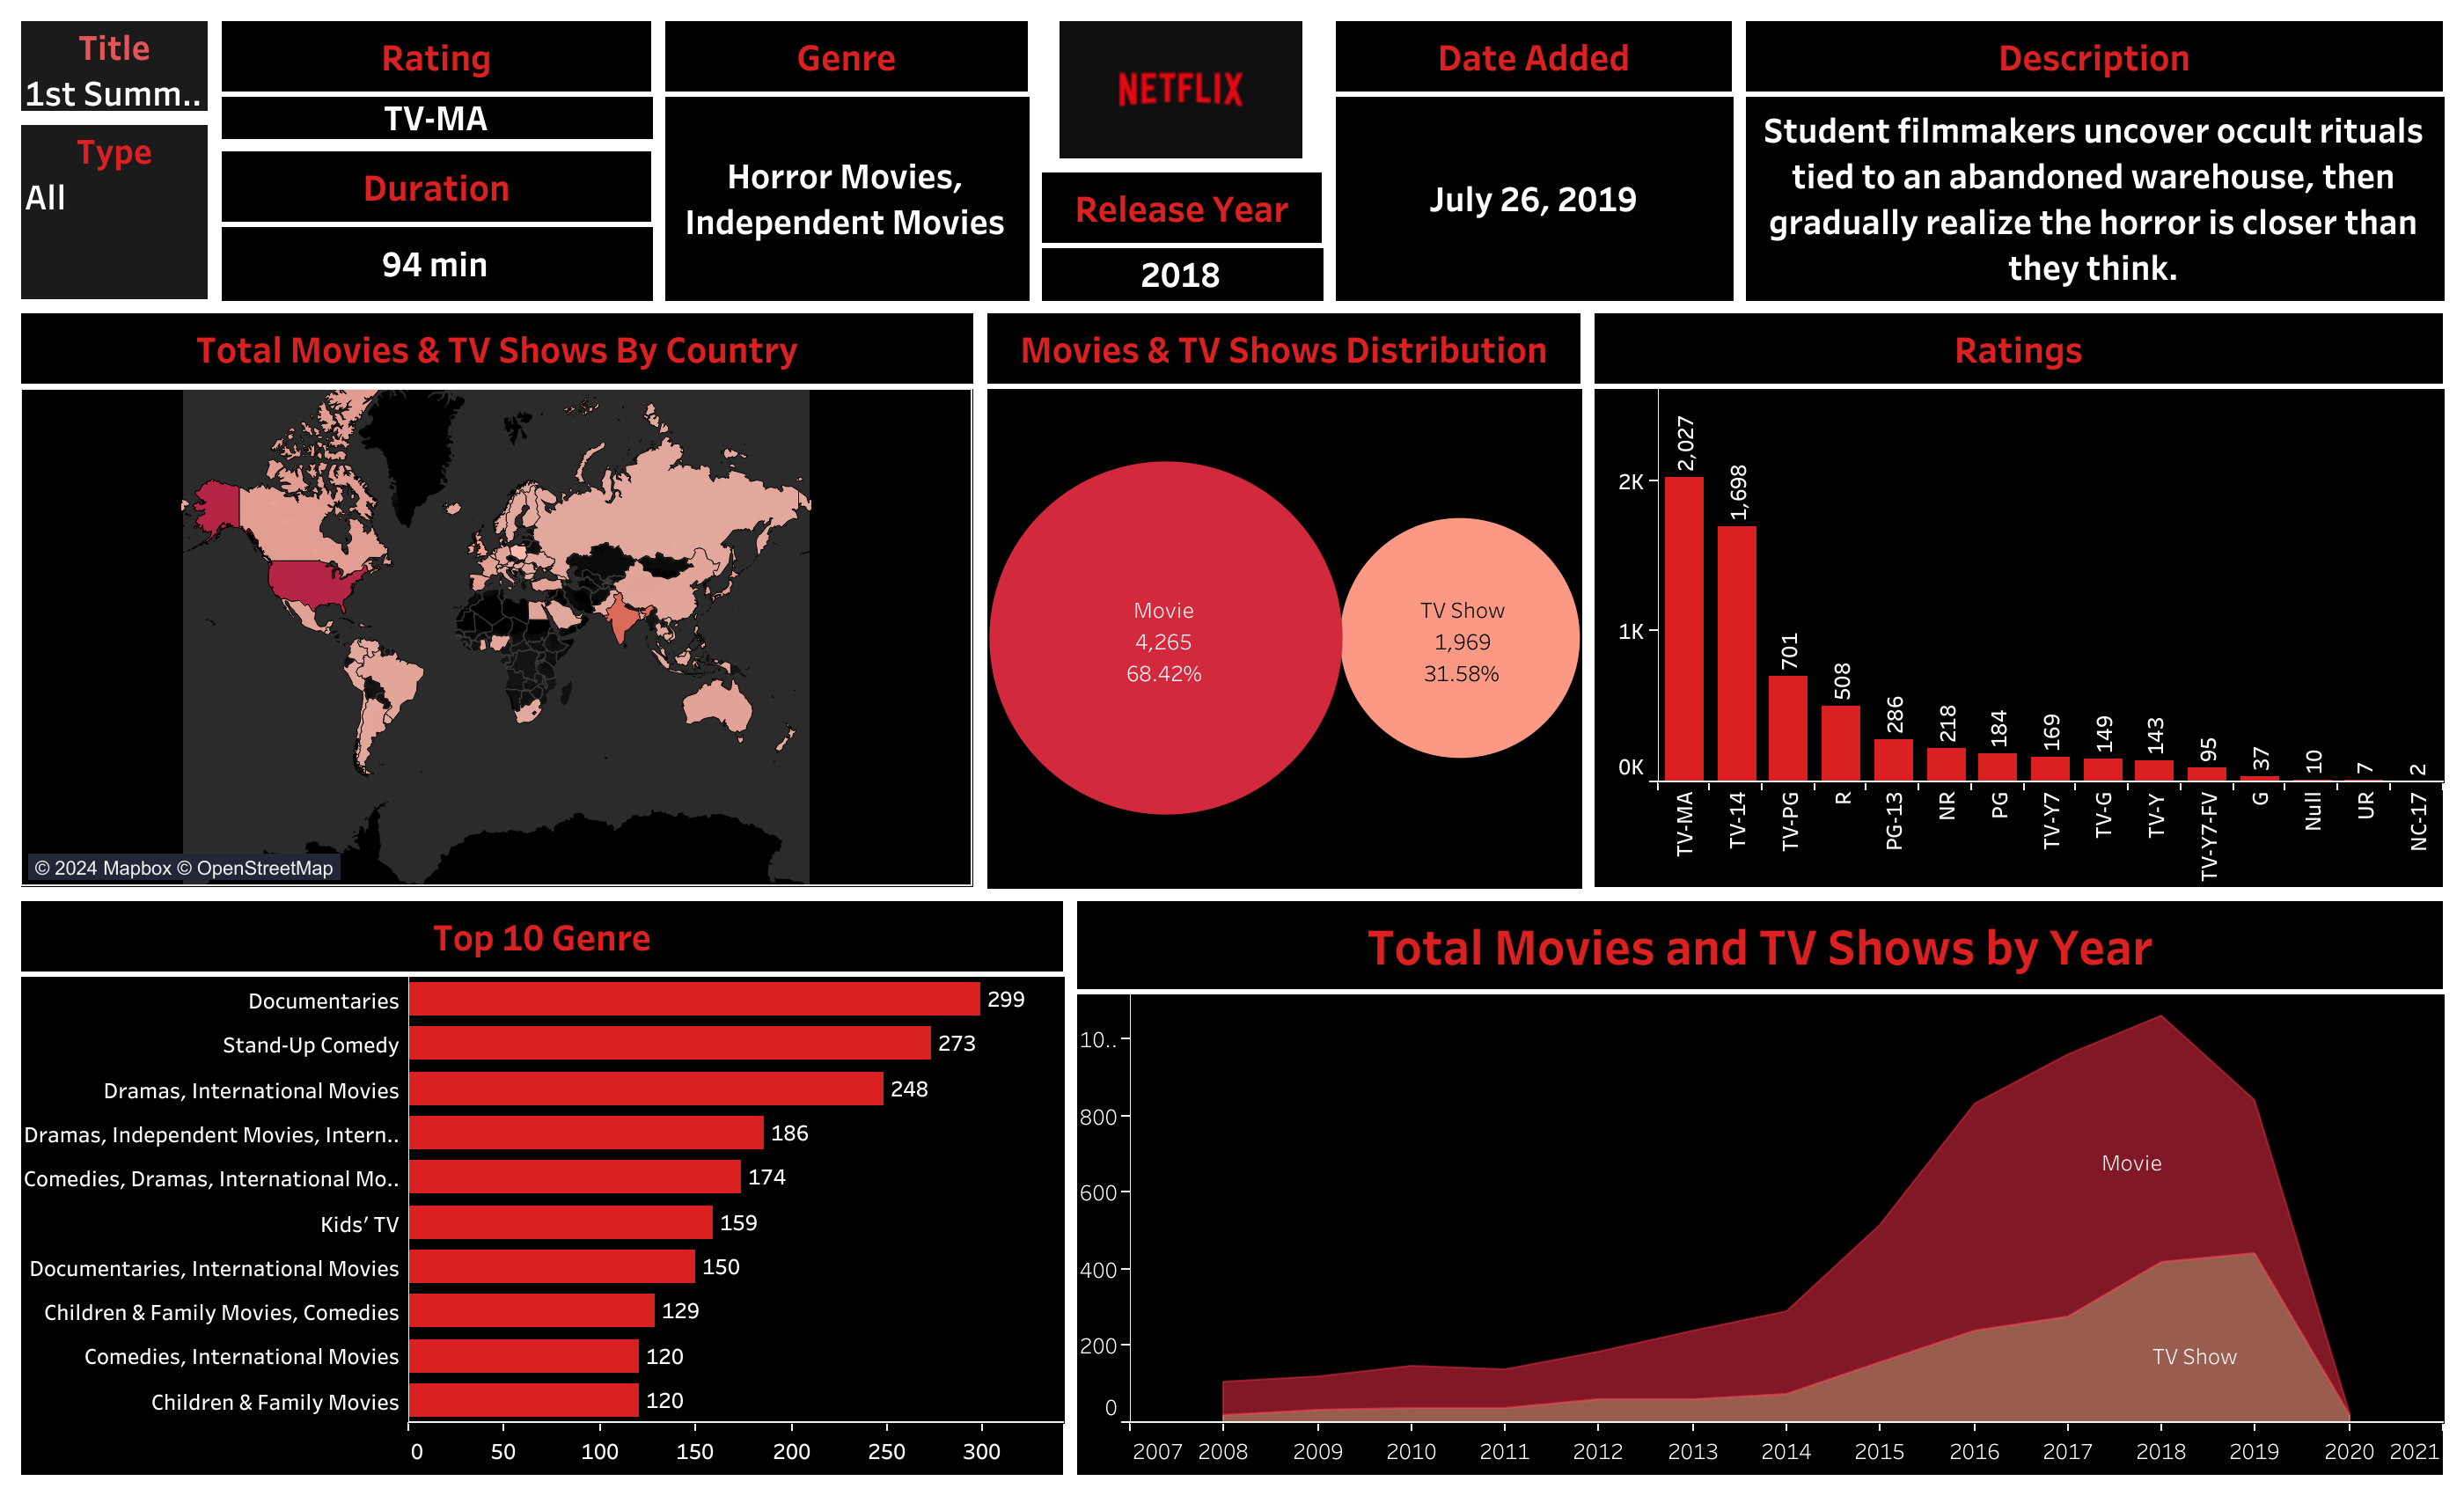

The dashboard page shown, as its layout file describes it:
{"tool":"tableau","page":{"name":"Dashboard 4","canvas":[1400,850],"ordinal":0},"visuals":[{"type":"filter","title":"Description","param":"[federated.044fho10zcsk8x0zlkgrz1k3hzzp].[none:title:nk]","box":[8,8,114,59]},{"type":"worksheet","title":"Rating","mark":"Automatic","box":[122,8,252,73.9]},{"type":"worksheet","title":"Genre","mark":"Automatic","box":[374,8,214,166]},{"type":"image","param":"Image/BrandAssets_Logos_01-Wordmark.jpg","box":[588,8,167,86]},{"type":"worksheet","title":"Date Added","mark":"Automatic","box":[755,8,233,166]},{"type":"worksheet","title":"Description","mark":"Automatic","box":[988,8,404,166]},{"type":"filter","title":"Description","param":"[federated.044fho10zcsk8x0zlkgrz1k3hzzp].[none:type:nk]","box":[8,67,114,107]},{"type":"worksheet","title":"Duration","mark":"Automatic","box":[122,81.9,252,92.1]},{"type":"worksheet","title":"Release Year","mark":"Automatic","box":[588,94,167,80]},{"type":"worksheet","title":"Total Movies & TV Shows By Country","mark":"Multipolygon","box":[8,174,549,334]},{"type":"worksheet","title":"Movies & TV Shows Distribution","mark":"Circle","box":[557,174,345,334]},{"type":"worksheet","title":"Ratings","mark":"Automatic","rows":["show_id"],"cols":["rating"],"box":[902,174,490,334]},{"type":"worksheet","title":"Top 10 genre","mark":"Automatic","rows":["listed_in"],"cols":["show_id"],"box":[8,508,600.2,334]},{"type":"worksheet","title":"Total Movies and TV Shows by Year","mark":"Area","rows":["show_id"],"cols":["release_year"],"box":[608.2,508,783.8,334]}]}

Visuals, with their boxes in screenshot pixels (x1, y1, x2, y2), scaled from the page's 1400x850 canvas onto the 2464x1496 screenshot:
"Description" filter: (14,14,215,118)
"Rating" worksheet: (215,14,658,144)
"Genre" worksheet: (658,14,1035,306)
image: (1035,14,1329,165)
"Date Added" worksheet: (1329,14,1739,306)
"Description" worksheet: (1739,14,2450,306)
"Description" filter: (14,118,215,306)
"Duration" worksheet: (215,144,658,306)
"Release Year" worksheet: (1035,165,1329,306)
"Total Movies & TV Shows By Country" worksheet (Multipolygon marks): (14,306,980,894)
"Movies & TV Shows Distribution" worksheet (Circle marks): (980,306,1588,894)
"Ratings" worksheet: (1588,306,2450,894)
"Top 10 genre" worksheet: (14,894,1070,1482)
"Total Movies and TV Shows by Year" worksheet (Area marks): (1070,894,2450,1482)
